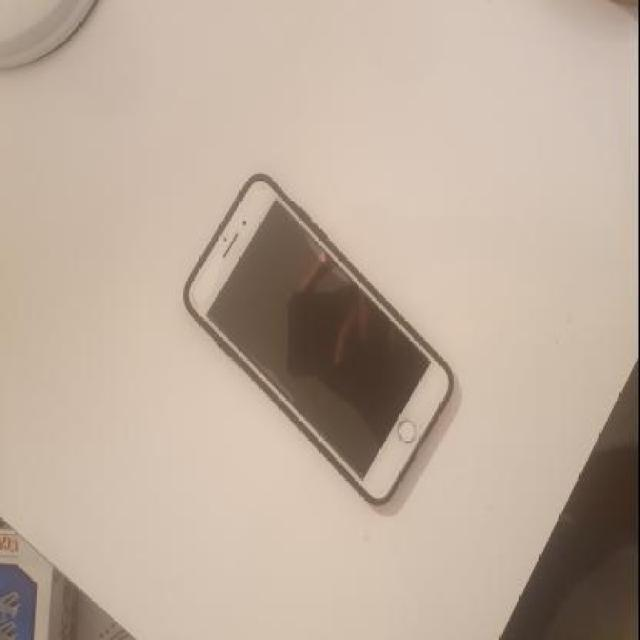mobile: (178, 174, 456, 511)
